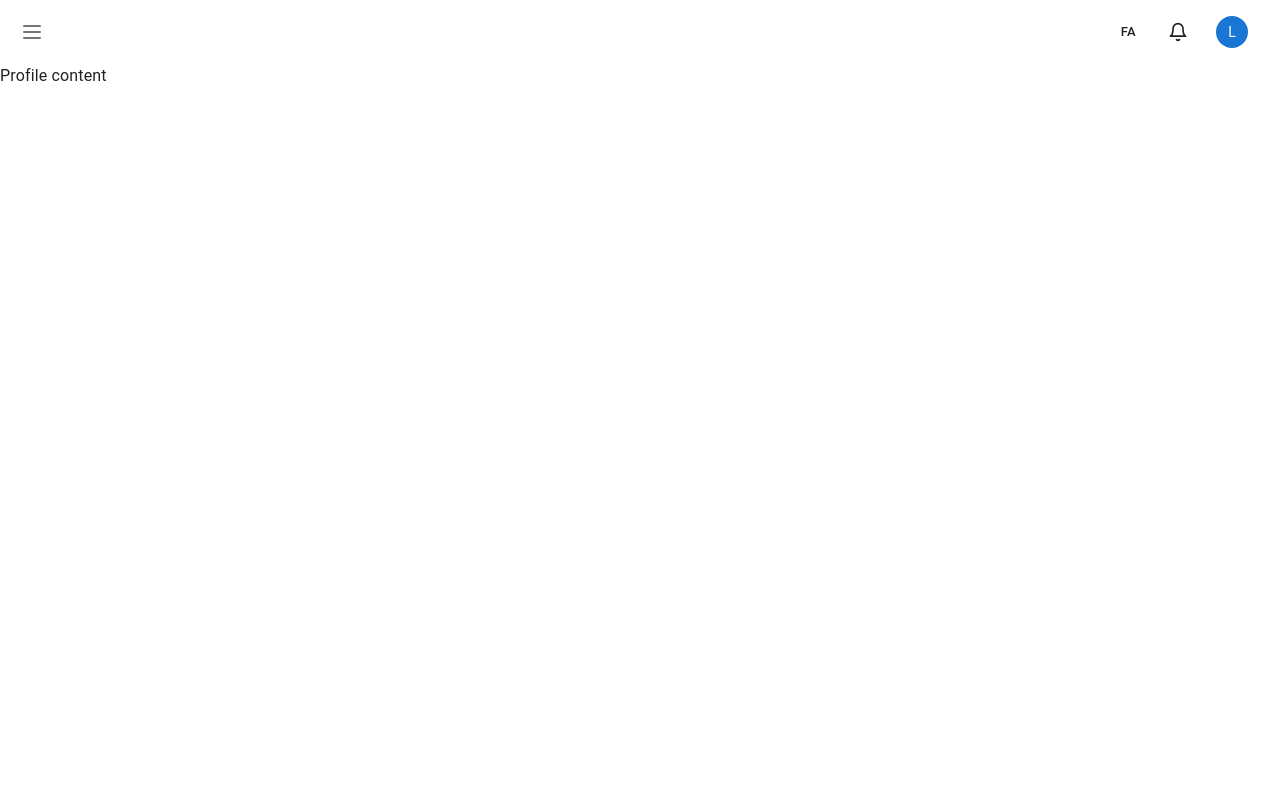
RoleGuard › keeps the shared sidebar expandable on mobile routes
This screenshot has width=1280, height=800.
Click the button named "open sidebar" at (32, 32), box [12,12,52,52]
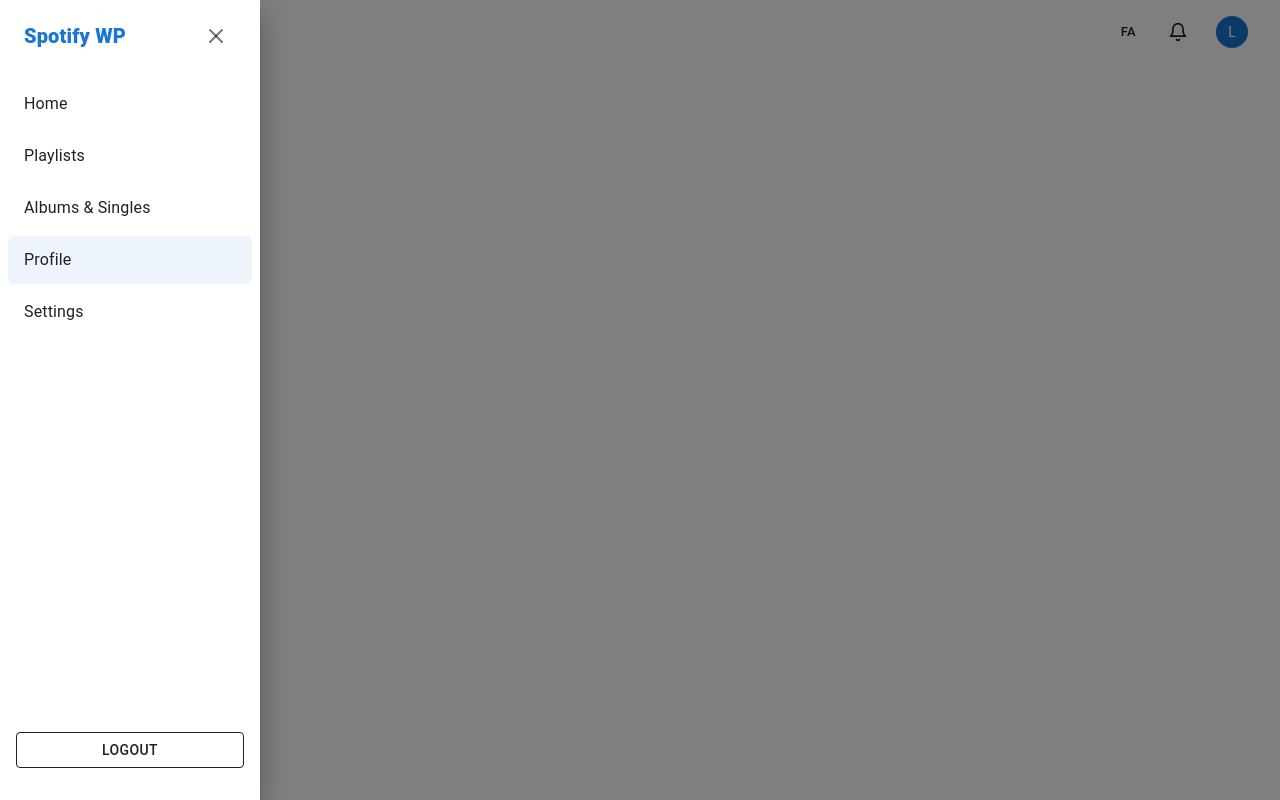
Expected: the link "Profile" is shown, [8,236,252,284]
Expected: the button named "close sidebar" is shown, [196,16,236,56]
